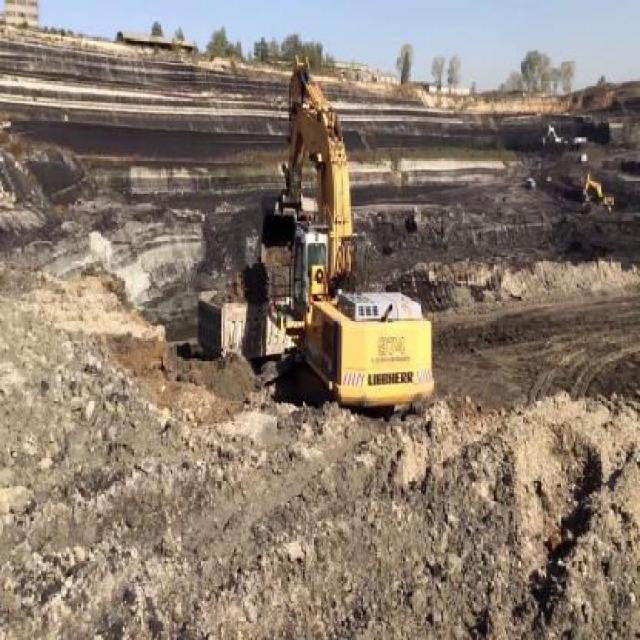Dump Truck: (198, 275, 297, 367)
Excavator: (260, 54, 435, 409), (581, 172, 614, 208)
